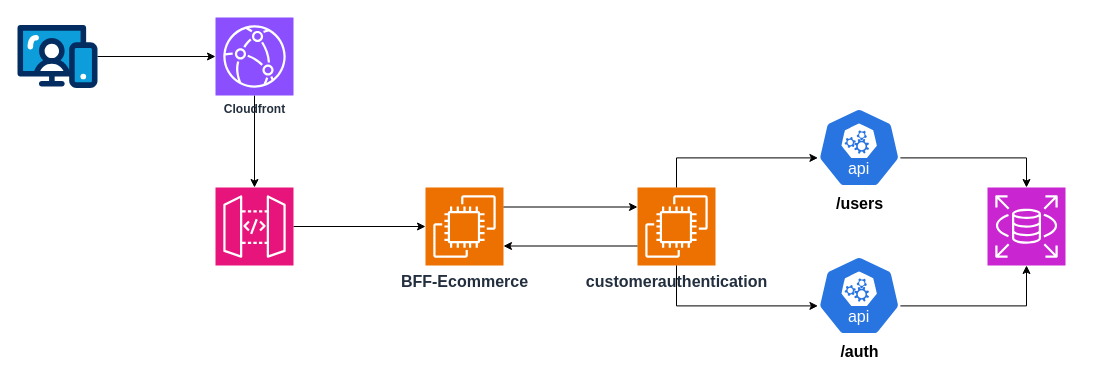
Some shapes in this 1102 by 379 pixel diagram are drawn without their labels. Each missing label, with the centre of its shape:
"API-GATEWAY" goes at (254,226).
"database users" goes at (1026,226).
